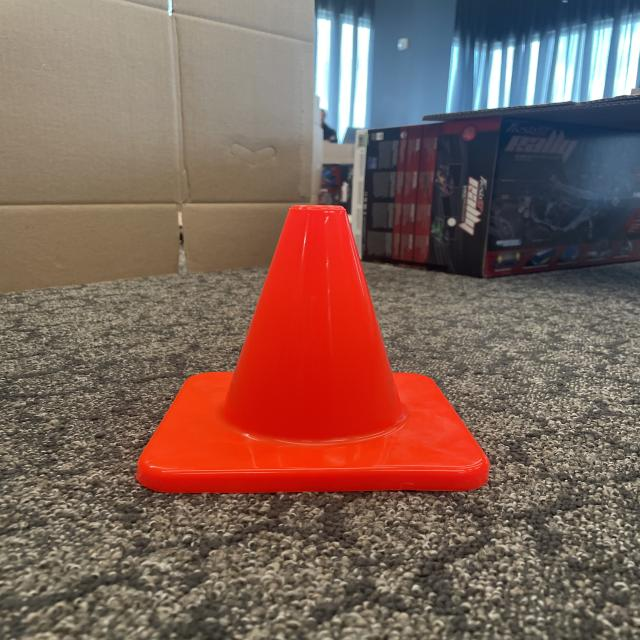Traffic Cone: (128, 184, 498, 505)
